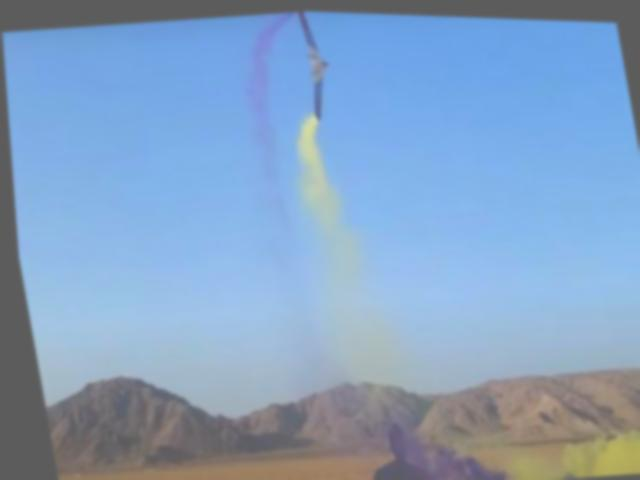iha: (288, 8, 339, 116)
